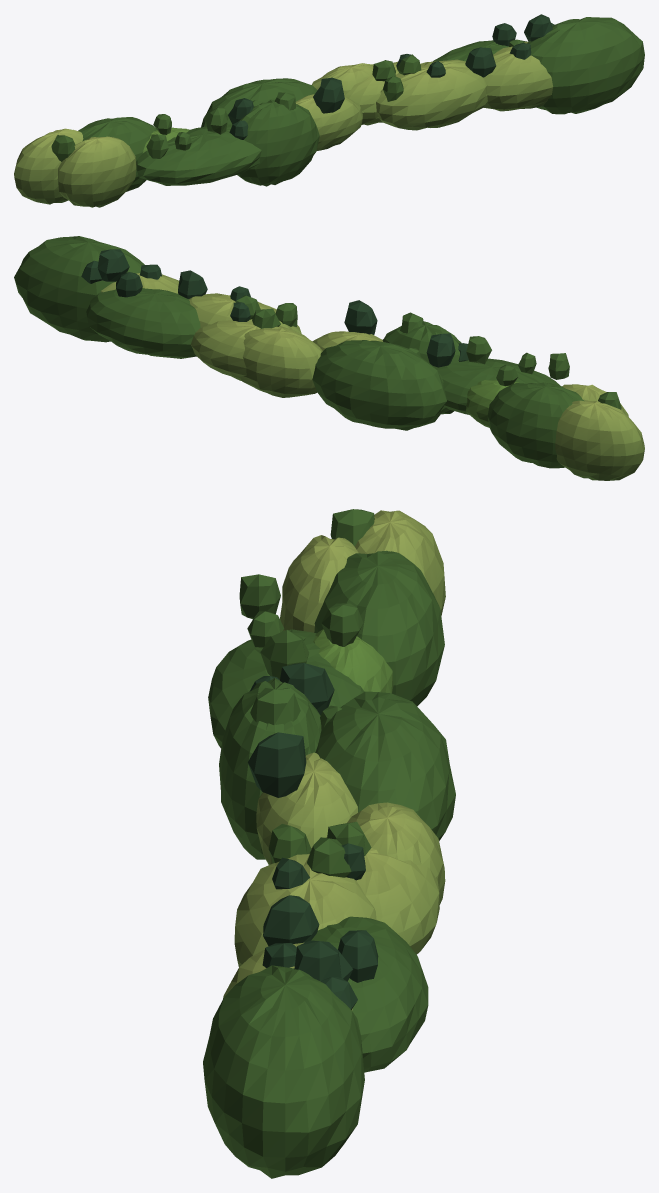
File: hills.glb
3 renders of one model, top to bottom at view 1: azimuth 30°, elevation 25°; view 2: azimuth 150°, elevation 25°; view 3: azimuth 270°, elevation 25°, orthographic. The views are drawn at different scales.
Visible parts, largest first — view 1: hills; view 2: hills; view 3: hills.
Boxes of the visible parts, x1,y1,x2,y2 form: hills: (14,14,644,207); hills: (14,236,644,480); hills: (203,509,455,1178).
Bounding box in the file's own units: 110 × 16.36 × 20.05.
